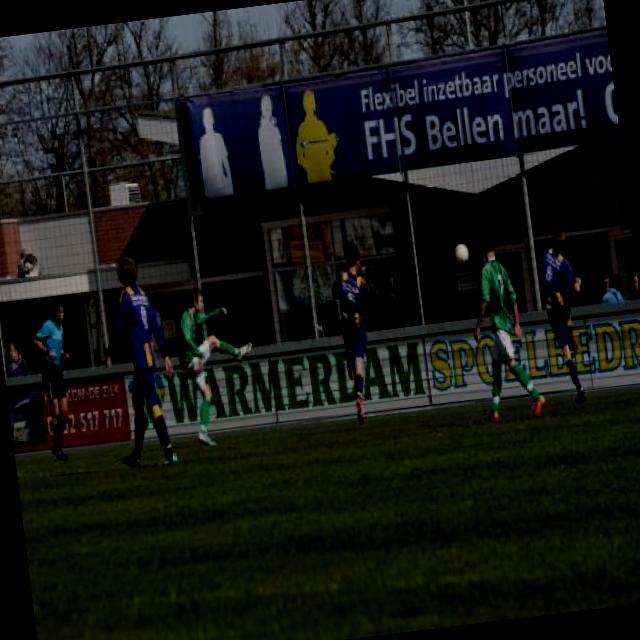Person: (88, 260, 182, 474), (169, 279, 265, 450), (462, 222, 540, 426), (530, 225, 597, 402), (328, 240, 388, 428), (24, 296, 84, 462), (284, 84, 342, 184), (188, 102, 238, 204), (249, 91, 290, 191), (0, 330, 33, 384), (599, 264, 639, 306), (298, 300, 326, 344), (594, 272, 624, 302), (628, 266, 639, 298), (600, 276, 610, 292)
